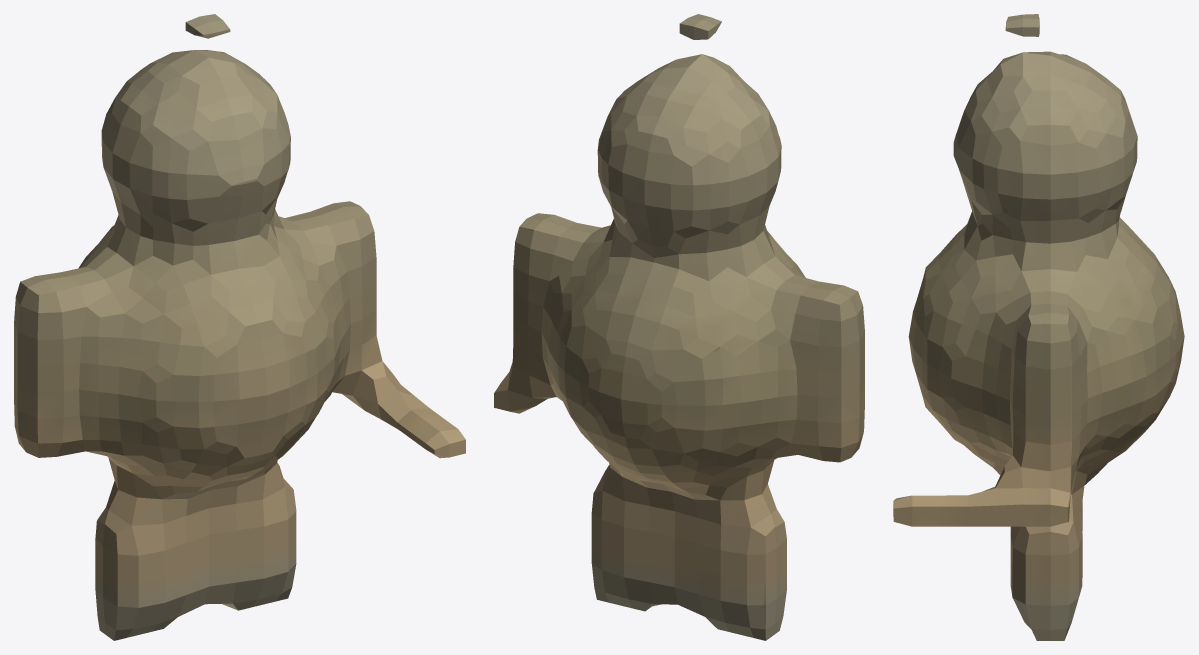
The model's file is dokkaebiKing.glb.
3 views of the same model, side by side, from view 1: azimuth 30°, elevation 25°; view 2: azimuth 150°, elevation 25°; view 3: azimuth 270°, elevation 25° (orthographic). The views are drawn at different scales.
Visible parts, largest first — view 1: geometry_0; view 2: geometry_0; view 3: geometry_0.
Part boxes in pixels (box(x1,y1,x2,y2)): geometry_0: box(14, 14, 465, 640); geometry_0: box(494, 14, 864, 640); geometry_0: box(893, 14, 1184, 640).
Bounding box in the file's own units: 0.6186 × 0.9654 × 0.4383.
1 material, 1 textured.
